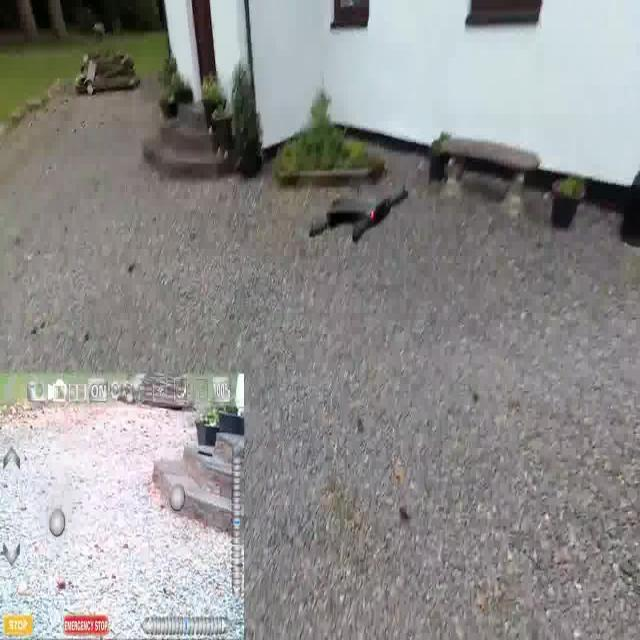drone: (304, 179, 412, 249)
